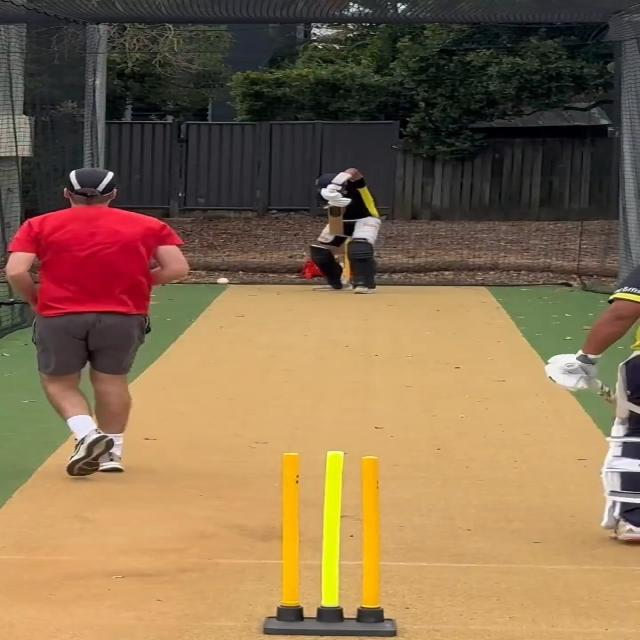ball: (214, 277, 232, 286)
stump: (260, 451, 400, 640)
